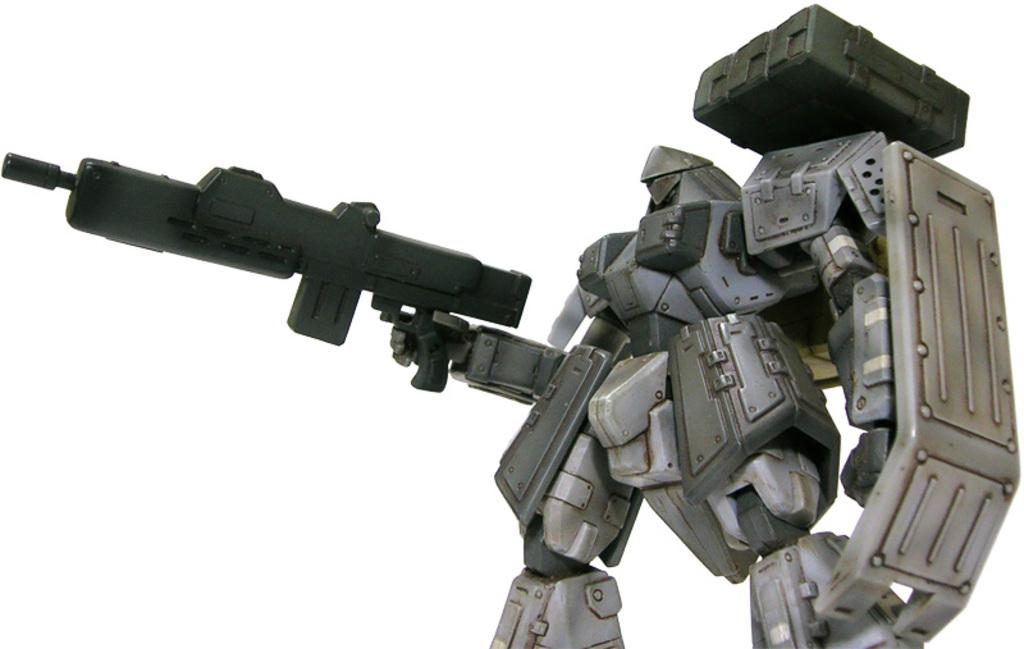Rifle: (0, 151, 534, 393)
